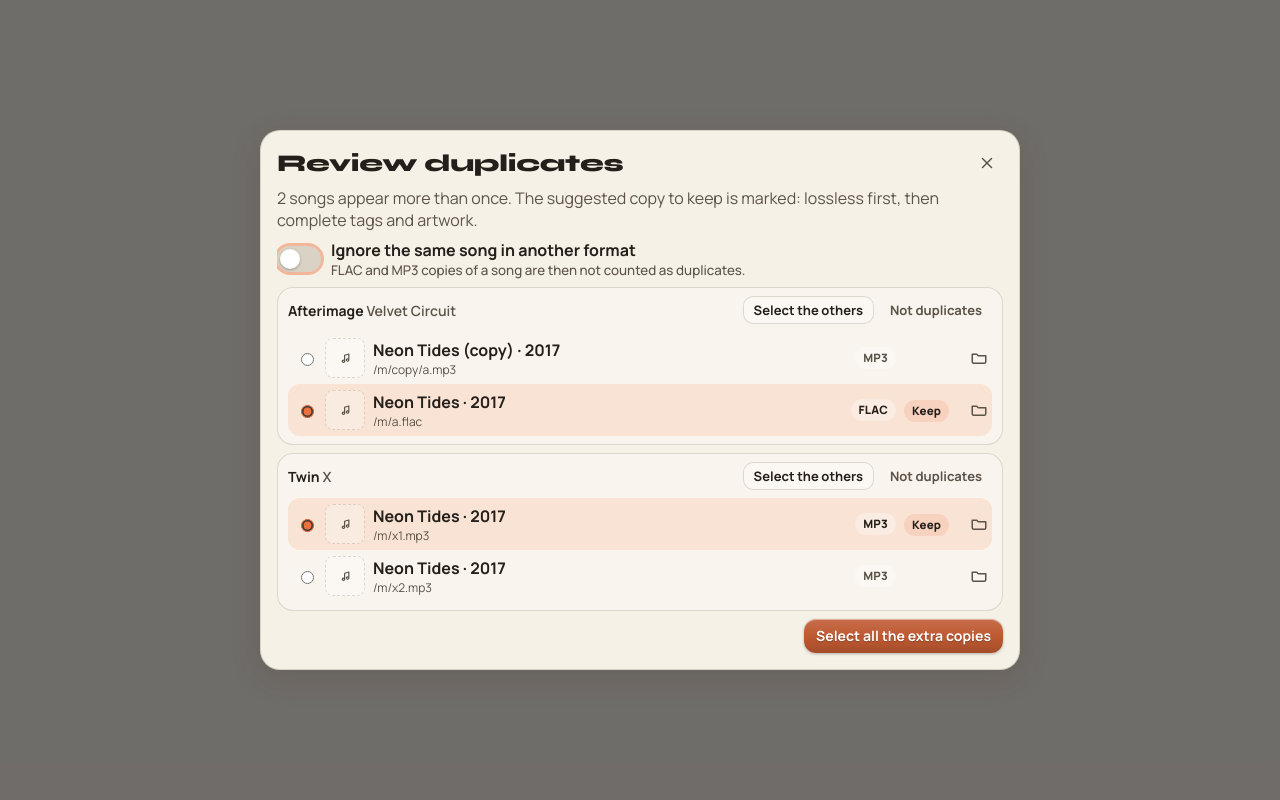
Scenario: DuplicatesDialog › can mark a group as not duplicates, and bring it back
The width and height of the screenshot is (1280, 800).
Click the button "Not duplicates" in the row of "Twin" at (936, 476), box [880,462,992,490]
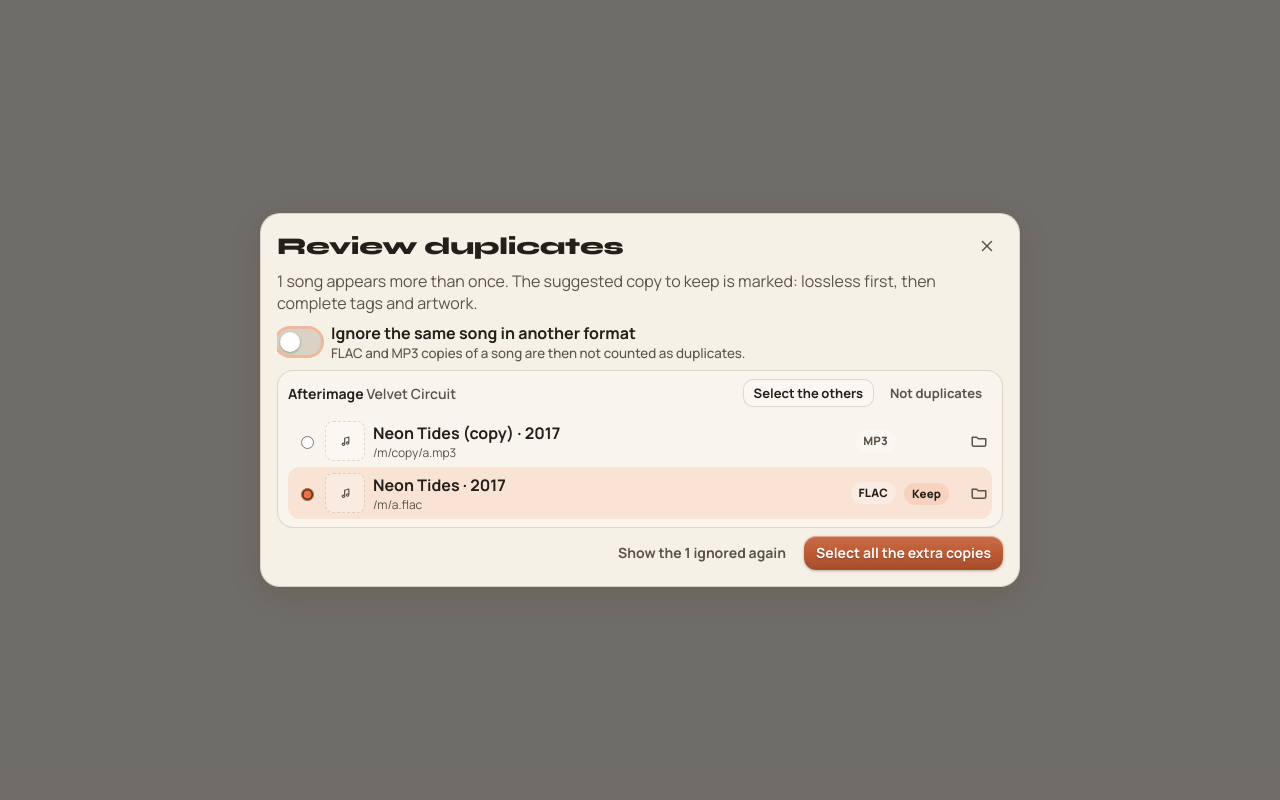
Now the heading "Twin" is gone
Click the button "Show the 1 ignored again" at (702, 553), box [606,536,798,570]
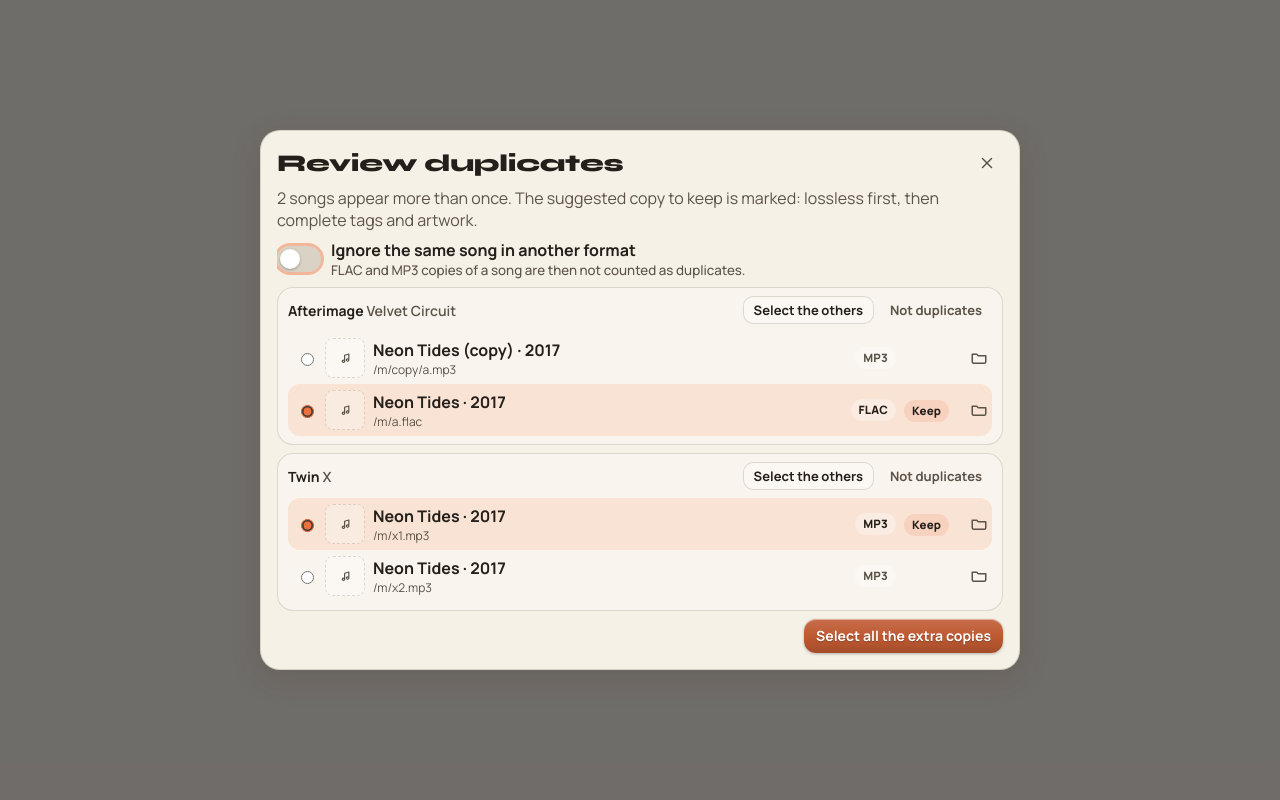
Now the element "Twin" is shown, box [277,453,1003,611]
